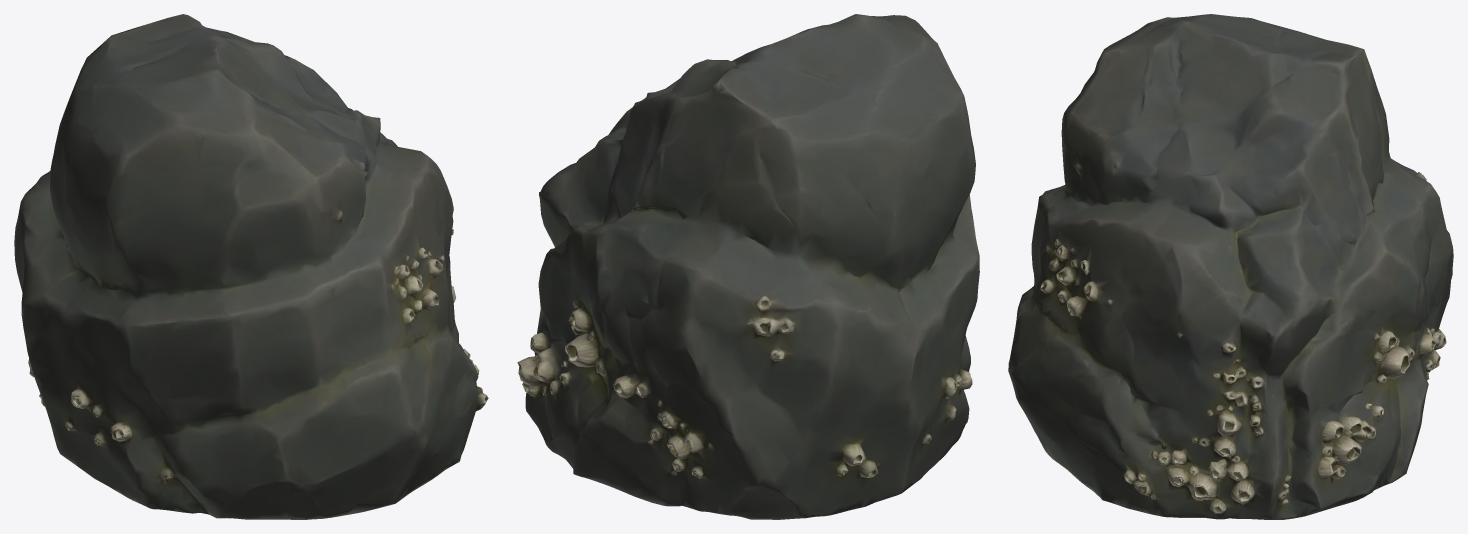
File: roca_costera.glb
3 renders of one model, left to right at view 1: azimuth 30°, elevation 25°; view 2: azimuth 150°, elevation 25°; view 3: azimuth 270°, elevation 25°, orthographic. The views are drawn at different scales.
Parts seen in each view (by area): view 1: tripo_node_14305c7d-911e-481c-a3cc-1be6acd09bfc; view 2: tripo_node_14305c7d-911e-481c-a3cc-1be6acd09bfc; view 3: tripo_node_14305c7d-911e-481c-a3cc-1be6acd09bfc.
Part boxes in pixels (<box>): tripo_node_14305c7d-911e-481c-a3cc-1be6acd09bfc: <box>14,14,488,519</box>; tripo_node_14305c7d-911e-481c-a3cc-1be6acd09bfc: <box>517,14,979,519</box>; tripo_node_14305c7d-911e-481c-a3cc-1be6acd09bfc: <box>1008,14,1453,519</box>.
Bounding box in the file's own units: 0.9577 × 0.9535 × 1.
1 material, 1 textured.
